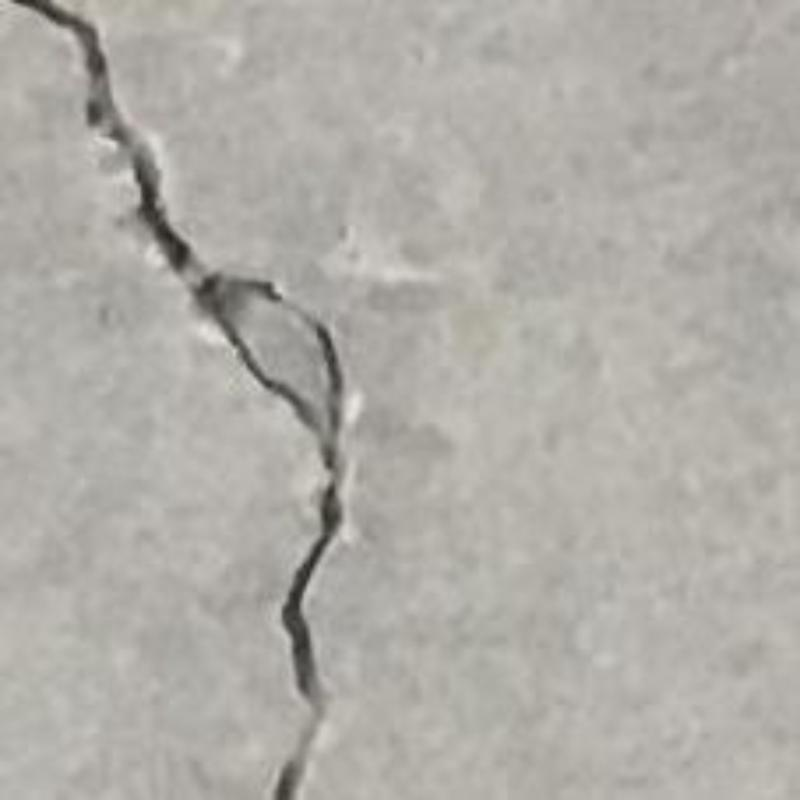pothole: (4, 0, 342, 800)
